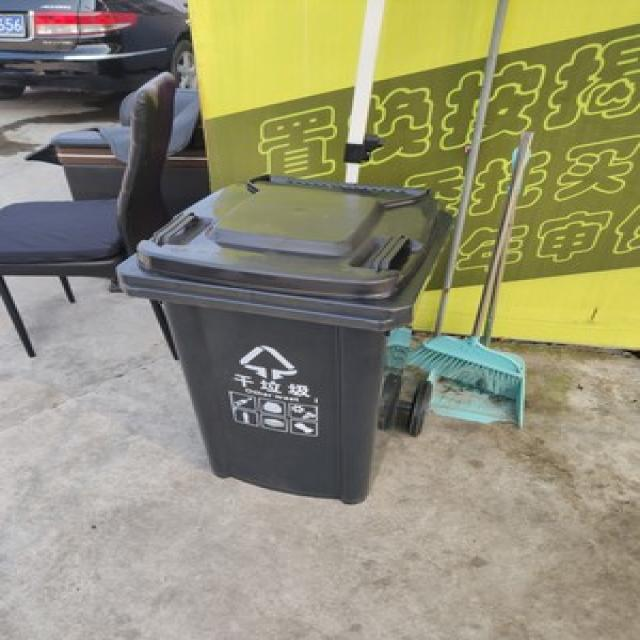ash bin: (111, 171, 448, 504)
car: (0, 0, 192, 98)
